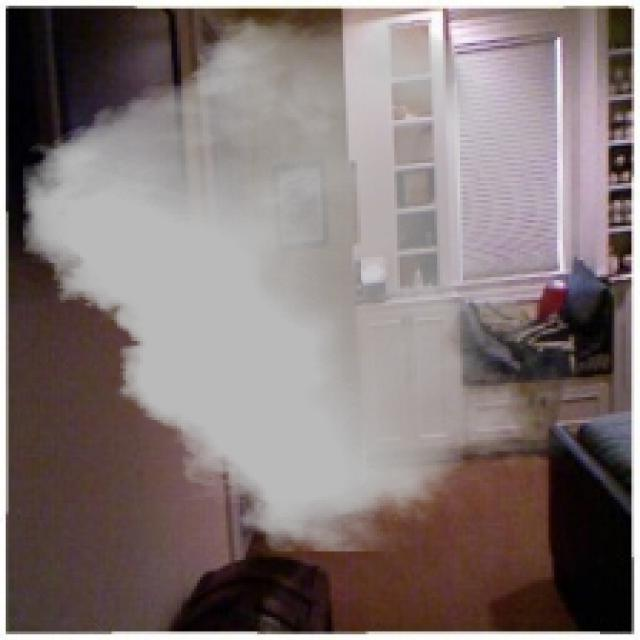Smoke: (23, 9, 583, 552)
